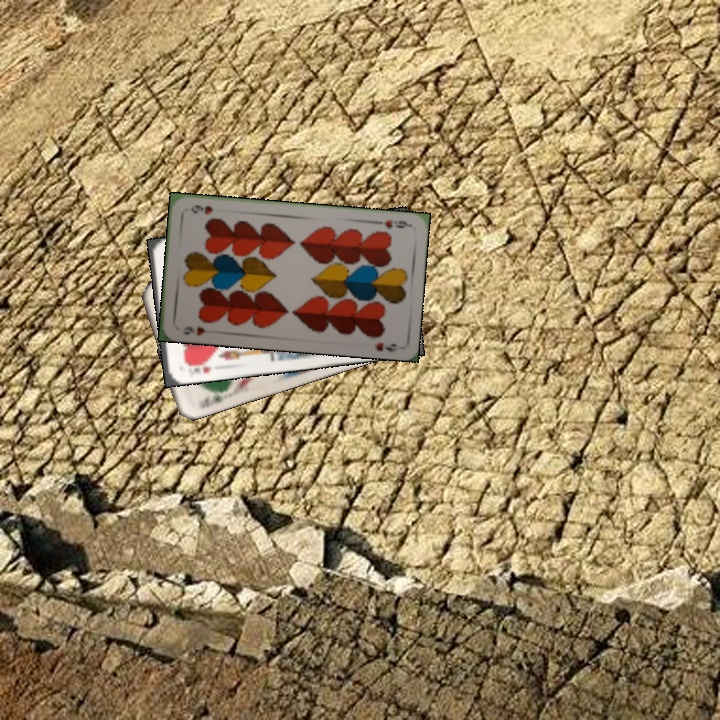GK: (199, 392, 221, 411)
H9: (380, 216, 412, 231), (179, 322, 208, 338)
HK: (180, 357, 215, 377)
